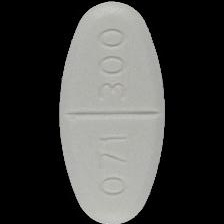53808-1041: (0, 0, 224, 224)
